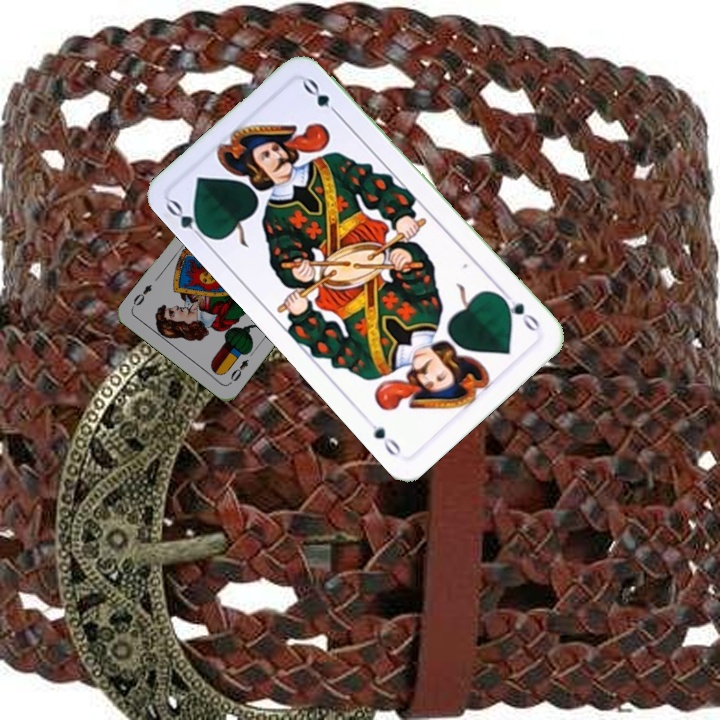EO: (225, 355, 251, 387)
GO: (162, 196, 212, 246), (496, 287, 543, 336)
